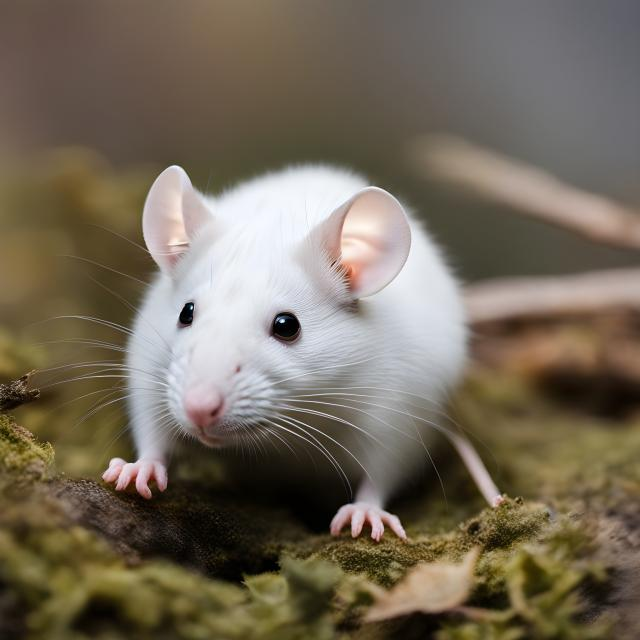rodents: (112, 127, 514, 550)
